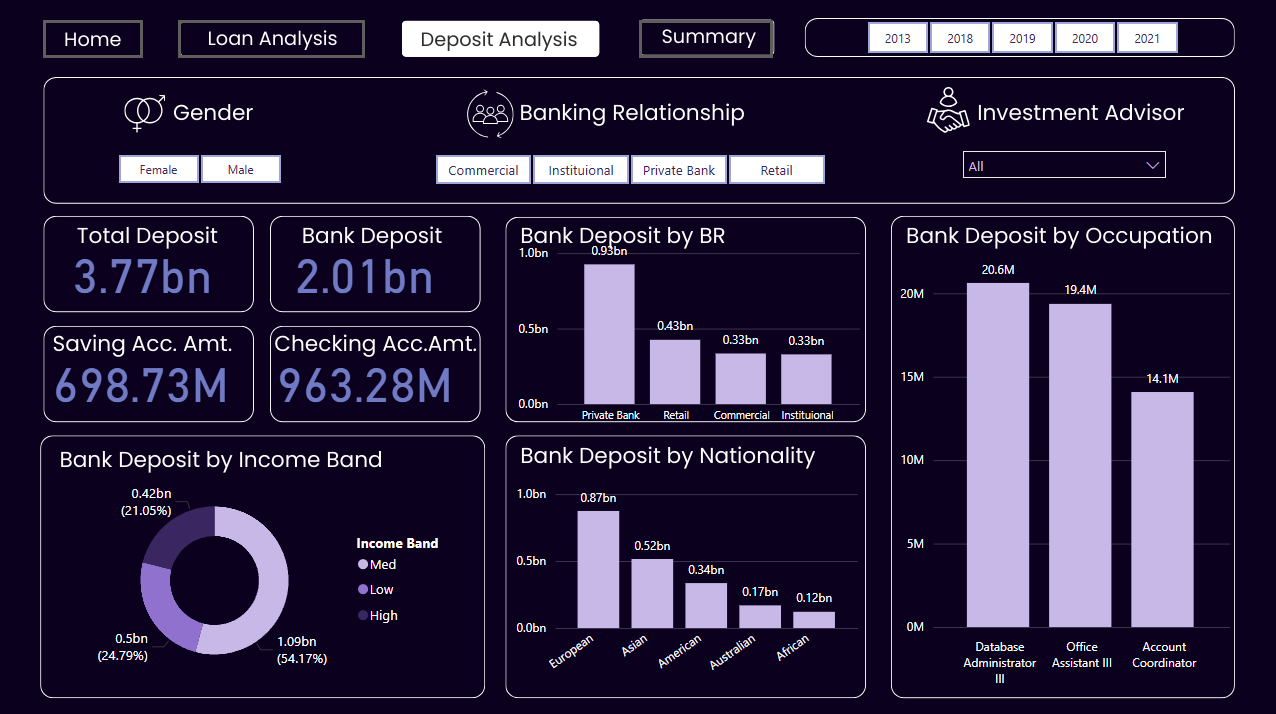

This screenshot's page, from the dashboard's own definition file:
{"tool":"powerbi","page":{"name":"Deposit Analysis","canvas":[1280,720],"ordinal":2},"visuals":[{"type":"actionButton","box":[179,22,187,38],"z":0},{"type":"actionButton","box":[44,22,100,38],"z":1000},{"type":"actionButton","box":[640,22,134,38],"z":2000},{"type":"slicer","fields":{"Values":["banking_case customer.BRId"]},"box":[411,150,439,40],"z":3000},{"type":"slicer","fields":{"Values":["banking_case customer.GenderId"]},"box":[94,150,212,39],"z":4000},{"type":"slicer","fields":{"Values":["banking_case investment_advisor.Investment Advisor"]},"box":[954,143,223,53],"z":5000},{"type":"slicer","fields":{"Values":["banking_case customer.Year of Joining"]},"box":[843,17,360,45],"z":6000},{"type":"card","fields":{"Values":["banking_case customer.Total Deposit"]},"box":[28,242,231,61],"z":7000},{"type":"card","fields":{"Values":["Sum(banking_case customer.Bank Deposits)"]},"box":[250,242,231,61],"z":8000},{"type":"card","fields":{"Values":["Sum(banking_case customer.Saving Accounts)"]},"box":[26,351,231,61],"z":9000},{"type":"card","fields":{"Values":["Sum(banking_case customer.Checking Accounts)"]},"box":[250,351,231,61],"z":10000},{"type":"donutChart","fields":{"Category":["banking_case customer.Income Band"],"Y":["Sum(banking_case customer.Bank Deposits)"]},"box":[68,476,395,213],"z":11000},{"type":"clusteredColumnChart","fields":{"Category":["banking_case customer.BRId"],"Y":["Sum(banking_case customer.Bank Deposits)"]},"box":[514,230,352,205],"z":12000},{"type":"clusteredColumnChart","fields":{"Category":["banking_case customer.Nationality"],"Y":["Sum(banking_case customer.Bank Deposits)"]},"box":[512,476,352,220],"z":13000},{"type":"clusteredColumnChart","fields":{"Category":["banking_case customer.Occupation"],"Y":["Sum(banking_case customer.Bank Deposits)"]},"box":[896,247,340,449],"z":14000}]}

Visuals, with their boxes in screenshot pixels (x1, y1, x2, y2), scaled from the page's 1280x720 canvas onto the 1276x714 screenshot:
actionButton: (178,22,365,60)
actionButton: (44,22,144,60)
actionButton: (638,22,772,60)
slicer - banking_case customer.BRId: (410,149,847,188)
slicer - banking_case customer.GenderId: (94,149,305,187)
slicer - banking_case investment_advisor.Investment Advisor: (951,142,1173,194)
slicer - banking_case customer.Year of Joining: (840,17,1199,61)
card - banking_case customer.Total Deposit: (28,240,258,300)
card - Sum(banking_case customer.Bank Deposits): (249,240,479,300)
card - Sum(banking_case customer.Saving Accounts): (26,348,256,409)
card - Sum(banking_case customer.Checking Accounts): (249,348,479,409)
donutChart - banking_case customer.Income Band x Sum(banking_case customer.Bank Deposits): (68,472,462,683)
clusteredColumnChart - banking_case customer.BRId x Sum(banking_case customer.Bank Deposits): (512,228,863,431)
clusteredColumnChart - banking_case customer.Nationality x Sum(banking_case customer.Bank Deposits): (510,472,861,690)
clusteredColumnChart - banking_case customer.Occupation x Sum(banking_case customer.Bank Deposits): (893,245,1232,690)
